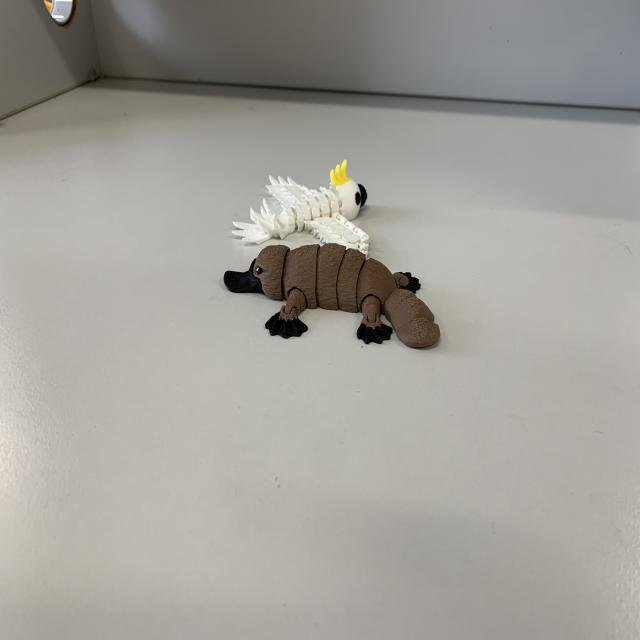cockatoo: (222, 156, 388, 260)
platypus: (221, 237, 450, 363)
